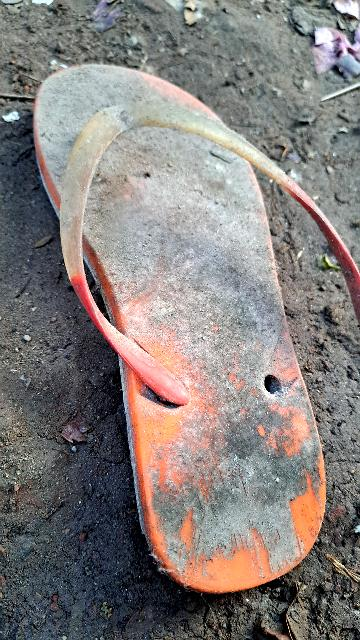sandal: (11, 24, 360, 614)
